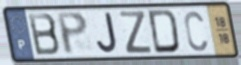B: (26, 12, 62, 58)
C: (183, 9, 209, 53)
D: (146, 8, 182, 55)
J: (95, 11, 119, 55)
P: (54, 10, 90, 57)
Z: (118, 10, 154, 55)
